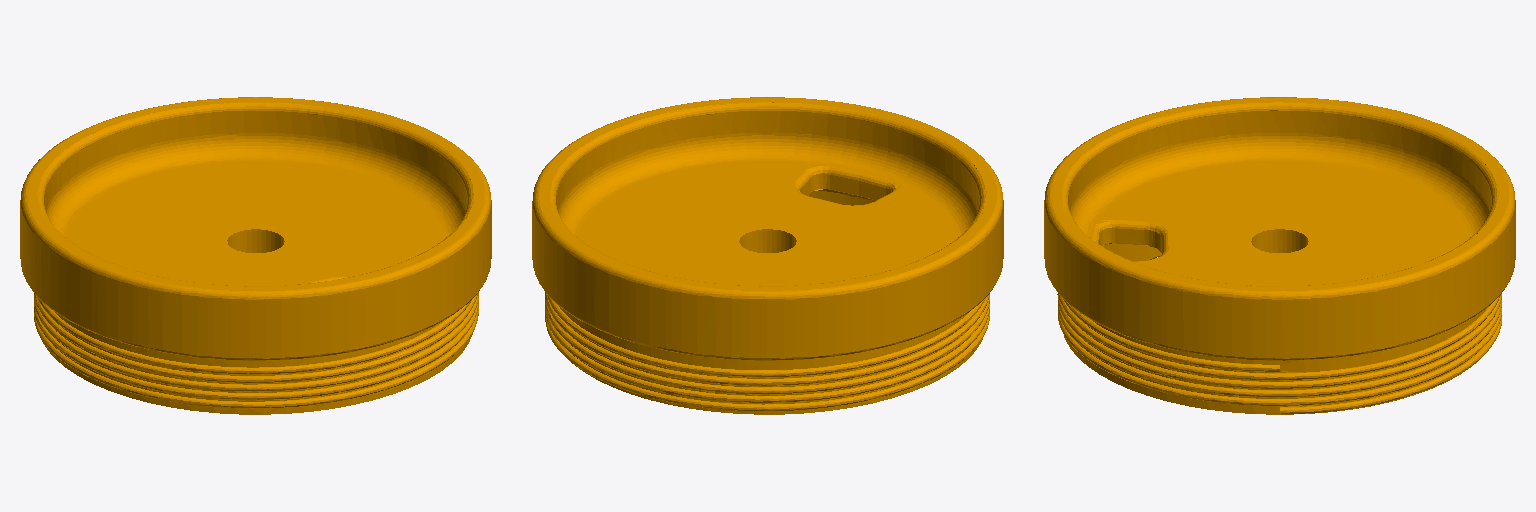
URDF robot description (cap_only):
<?xml version="1.0"?>
<robot name="cap_only">
  <link name="base">
    <visual>
      <geometry>
        <mesh filename="../tumbler/meshes/cap_visual.obj"/>
      </geometry>
    </visual>
    <collision>
      <geometry>
        <mesh filename="../tumbler/meshes/cap_collision.obj"/>
      </geometry>
    </collision>
    <inertial>
      <mass value="0.05"/>
      <origin xyz="0.000051 0.000485 0.015506"/>
      <inertia ixx="0.00004334" iyy="0.00004411" izz="0.00008291" ixy="0" ixz="0" iyz="0"/>
    </inertial>
  </link>
</robot>

--- What the picture shows (computed from the rendered views, not written in the file) ---
3 views of the same robot in one strip: view 1: azimuth 30°, elevation 25°; view 2: azimuth 150°, elevation 25°; view 3: azimuth 270°, elevation 25° (orthographic).
Robot: cap_only — 1 links, 0 joints (none); root link base; default pose: all joints at 0.
Visible links, largest first — view 1: base; view 2: base; view 3: base.
Boxes of the visible links, <box> form: base: <box>20,97,491,414</box>; base: <box>532,97,1003,414</box>; base: <box>1044,97,1515,414</box>.
Bounding box of the posed robot: 0.1 × 0.1 × 0.03 m (x, y, z).
1 mesh visuals loaded from 1 distinct referenced files (1 OBJ).
